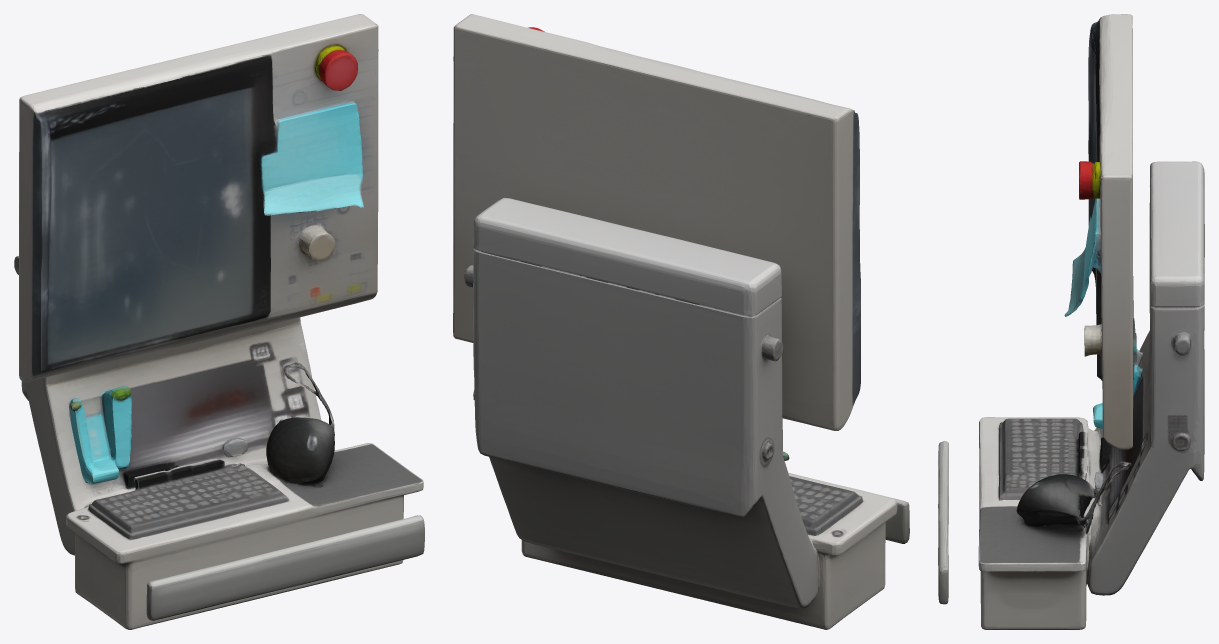
3 renders of one model, left to right at view 1: azimuth 30°, elevation 25°; view 2: azimuth 150°, elevation 25°; view 3: azimuth 270°, elevation 25°, orthographic. The views are drawn at different scales.
Visible parts, largest first — view 1: world; view 2: world; view 3: world.
Part boxes in pixels (left/top/right/bottom): world: left=14, top=14, right=424, bottom=629; world: left=453, top=14, right=909, bottom=629; world: left=938, top=14, right=1204, bottom=629.
Bounding box in the file's own units: 0.7452 × 1 × 0.513.
Materials: 1 (1 with a texture image).
